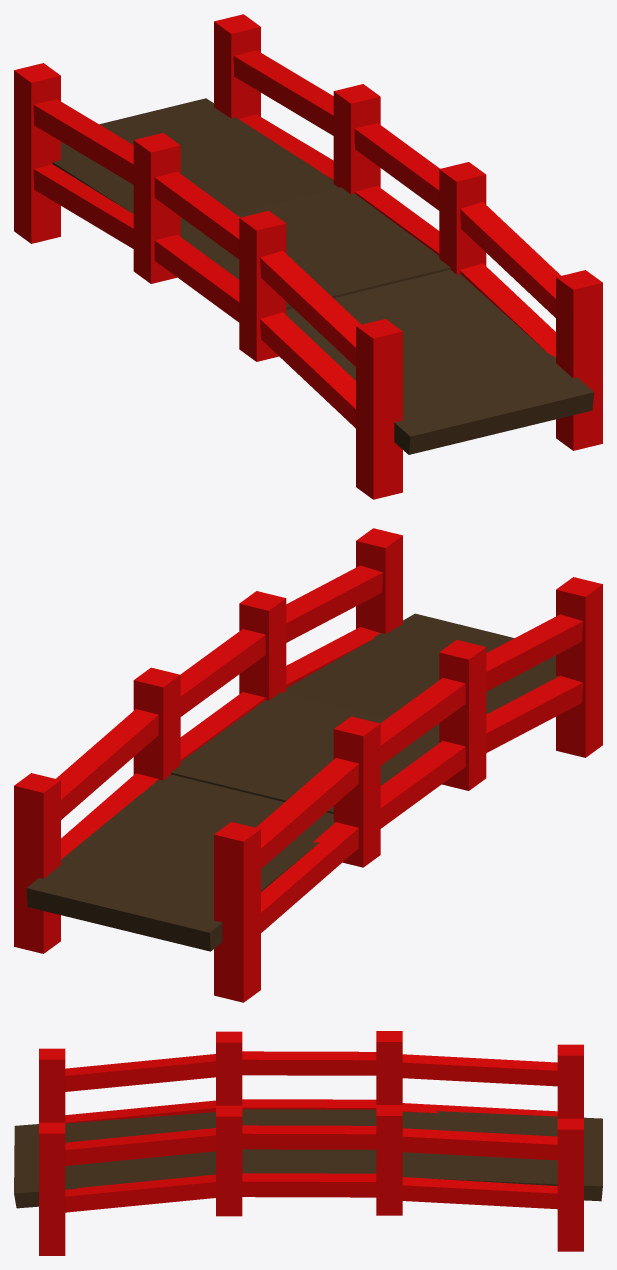
Rendered from bridge.fbx.
3 views of the same model, one above another, from view 1: azimuth 30°, elevation 25°; view 2: azimuth 150°, elevation 25°; view 3: azimuth 270°, elevation 25° (orthographic). The views are drawn at different scales.
Visible parts, largest first — view 1: pCube24; view 2: pCube24; view 3: pCube24.
Boxes of the visible parts, x1,y1,x2,y2 form: pCube24: [14, 14, 602, 499]; pCube24: [14, 528, 602, 1002]; pCube24: [14, 1031, 602, 1255].
Bounding box in the file's own units: 4.16 × 3.19 × 12.17.
